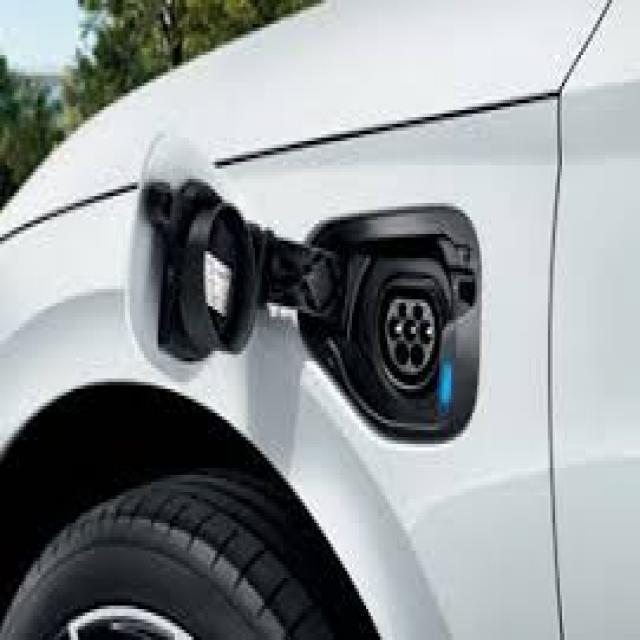Type 2: (346, 272, 471, 400)
